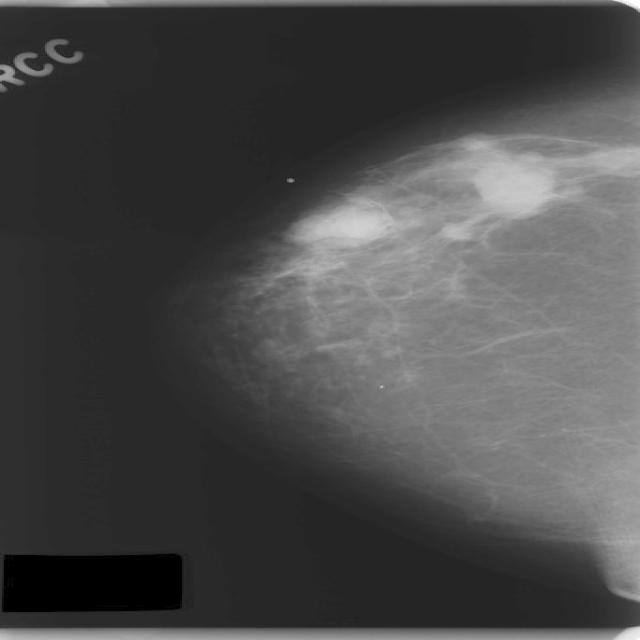tumour: (471, 156, 554, 218), (284, 200, 391, 246)
